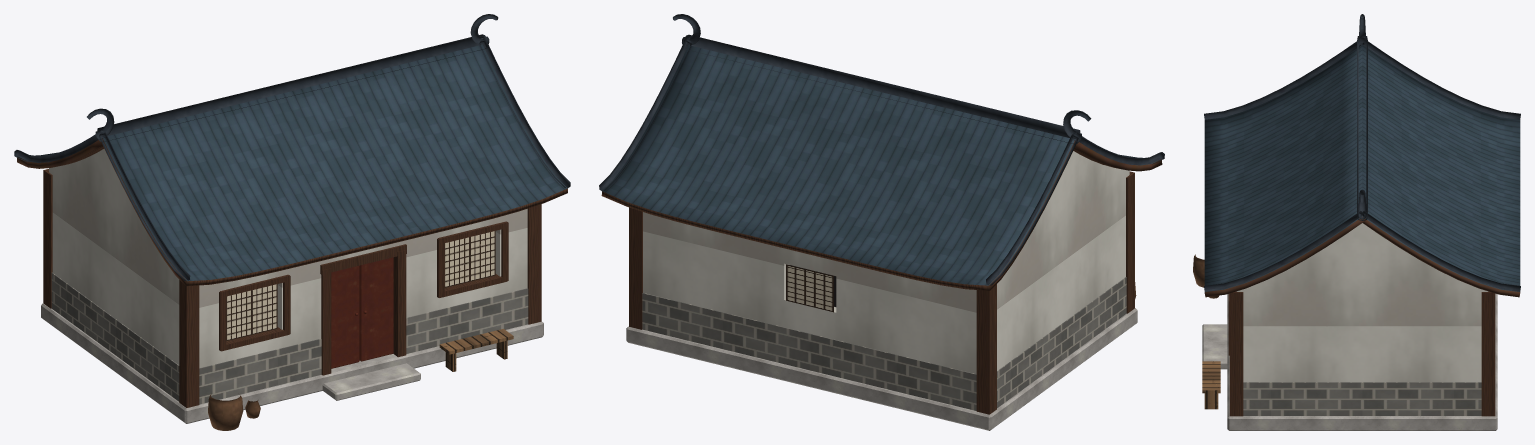
Rendered from town_house.glb.
3 views of the same model, side by side, from view 1: azimuth 30°, elevation 25°; view 2: azimuth 150°, elevation 25°; view 3: azimuth 270°, elevation 25° (orthographic). The views are drawn at different scales.
Visible parts, largest first — view 1: HouseRoof, HouseWalls, HouseDado, HouseTimber, HousePlinth, HouseRoofRidge, HouseDoor, HouseWindows, HouseBench, HouseJars; view 2: HouseRoof, HouseWalls, HouseDado, HousePlinth, HouseRoofRidge, HouseTimber, HouseWindows; view 3: HouseRoof, HouseWalls, HouseDado, HousePlinth, HouseRoofRidge, HouseTimber, HouseBench, HouseJars.
Part boxes in pixels (x1,y1,x2,y2): HouseRoof: (17, 44, 567, 286); HouseWalls: (49, 149, 527, 368); HouseDado: (51, 272, 528, 404); HouseTimber: (43, 169, 541, 407); HousePlinth: (41, 303, 543, 423); HouseRoofRidge: (14, 14, 570, 281); HouseDoor: (331, 257, 393, 368); HouseWindows: (226, 231, 495, 340); HouseBench: (439, 329, 513, 371); HouseJars: (208, 394, 260, 430); HouseRoof: (601, 45, 1162, 290); HouseWalls: (643, 151, 1129, 373); HouseDado: (642, 277, 1126, 410); HousePlinth: (626, 308, 1137, 430); HouseRoofRidge: (599, 14, 1164, 285); HouseTimber: (629, 171, 1134, 414); HouseWindows: (786, 264, 833, 312); HouseRoof: (1204, 44, 1520, 297); HouseWalls: (1236, 223, 1488, 382); HouseDado: (1243, 382, 1481, 415); HousePlinth: (1202, 293, 1497, 430); HouseRoofRidge: (1204, 14, 1520, 292); HouseTimber: (1228, 291, 1495, 416); HouseBench: (1202, 361, 1220, 409); HouseJars: (1193, 254, 1218, 298).
Size of what is drawn, in the model's own units: 9.61 by 5.95 by 7.16.
11 materials, 10 textured.
